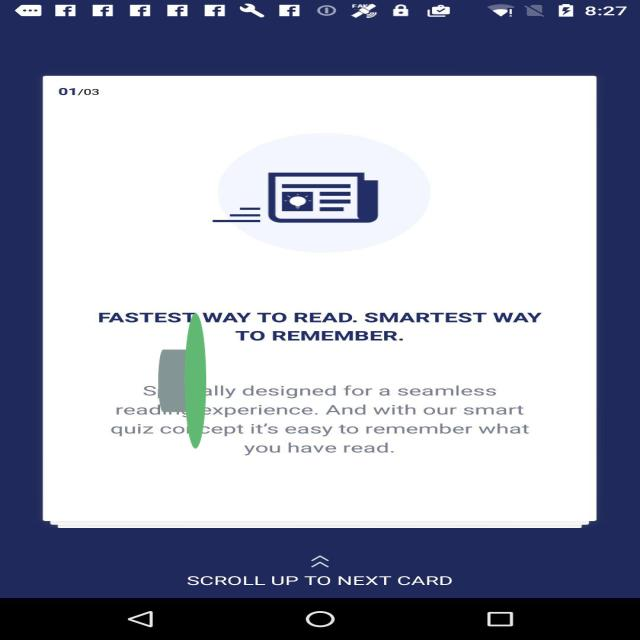social proof: (158, 230, 206, 532)
